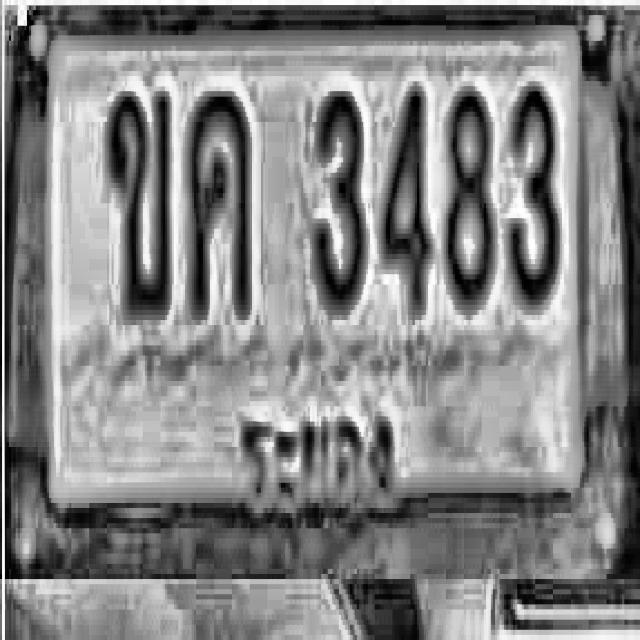license-plate: (15, 0, 635, 572)
